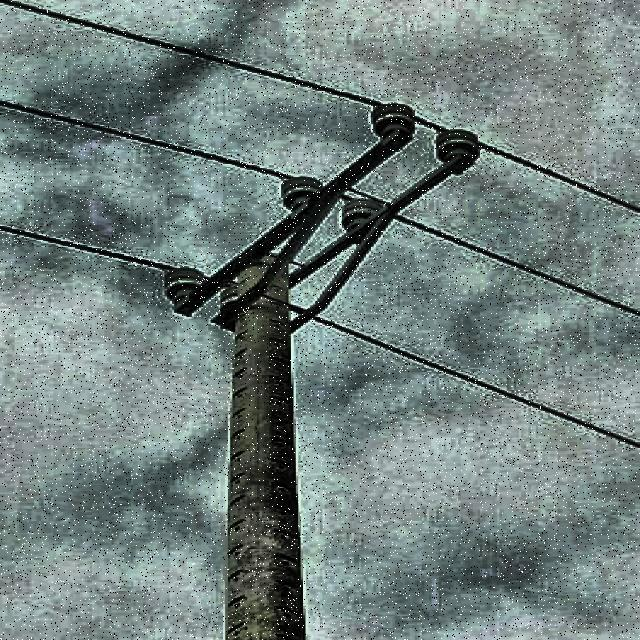crossarm: (172, 130, 412, 313), (284, 166, 450, 289)
pole: (226, 255, 307, 640)
wire: (0, 225, 640, 451), (0, 99, 640, 317), (2, 2, 640, 218)
